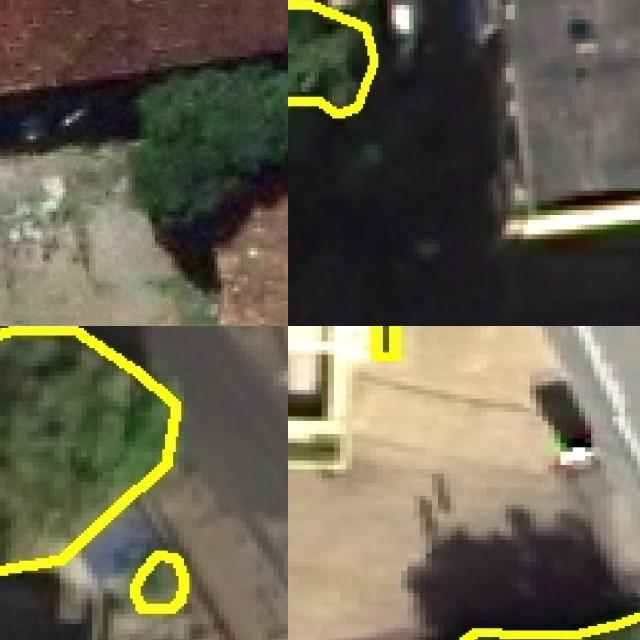trees: (1, 329, 177, 572), (136, 71, 289, 261), (289, 4, 375, 115), (134, 554, 185, 610), (375, 327, 396, 360)
